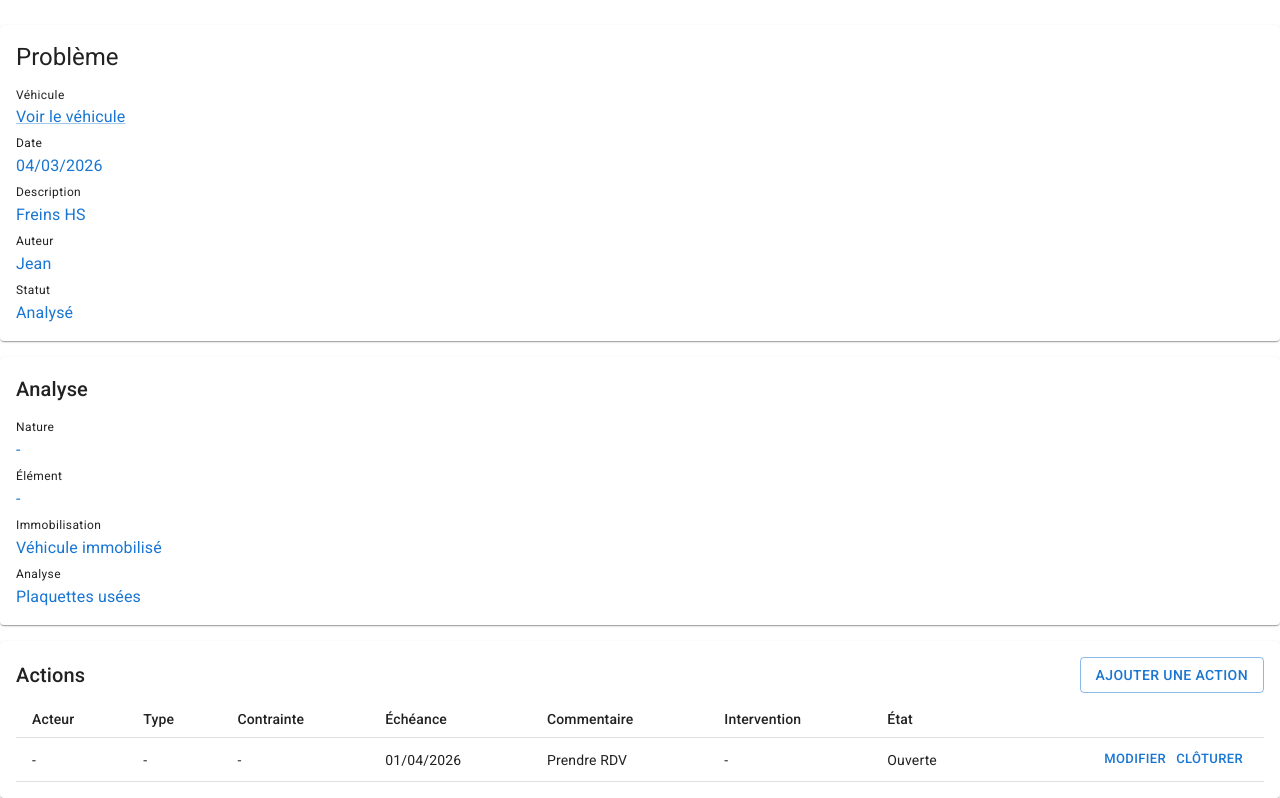
Test: ProblemDetailPage - actions › traduit l'erreur d'une action déjà clôturée
(page scrolled)
Click the button "Clôturer" at x=1210, y=760, box x1=1171 y1=744 x2=1248 y2=775
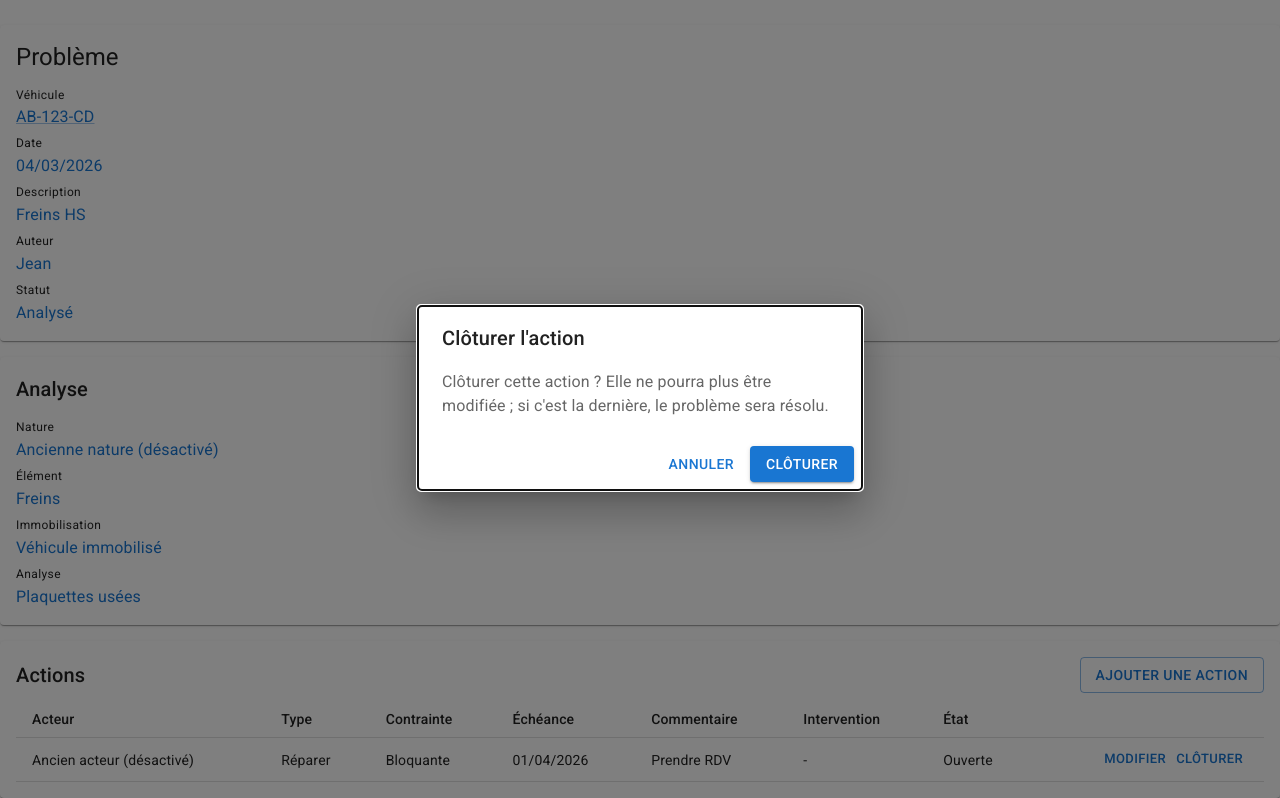
Click the button "Clôturer" at x=802, y=464, box x1=750 y1=446 x2=854 y2=482
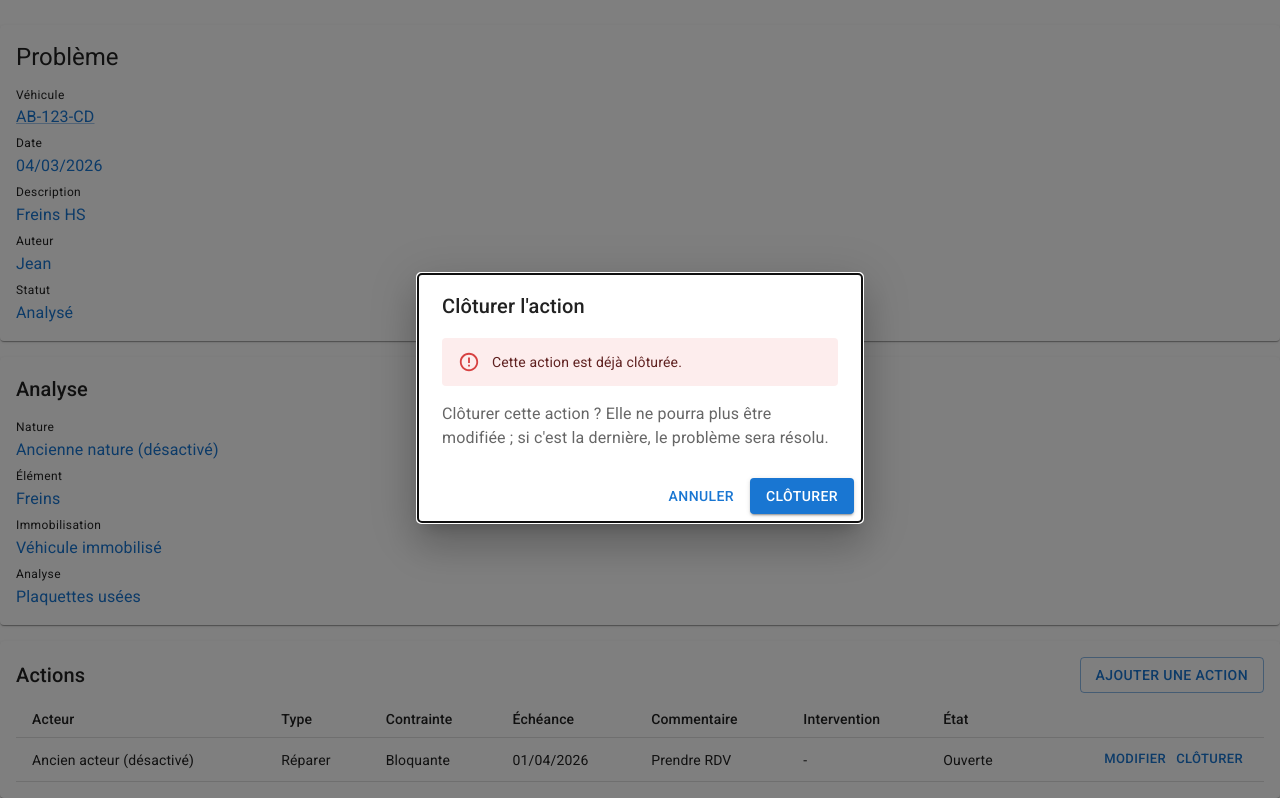
Now the text "Cette action est déjà clôturée." is shown, box x1=492 y1=354 x2=682 y2=370
